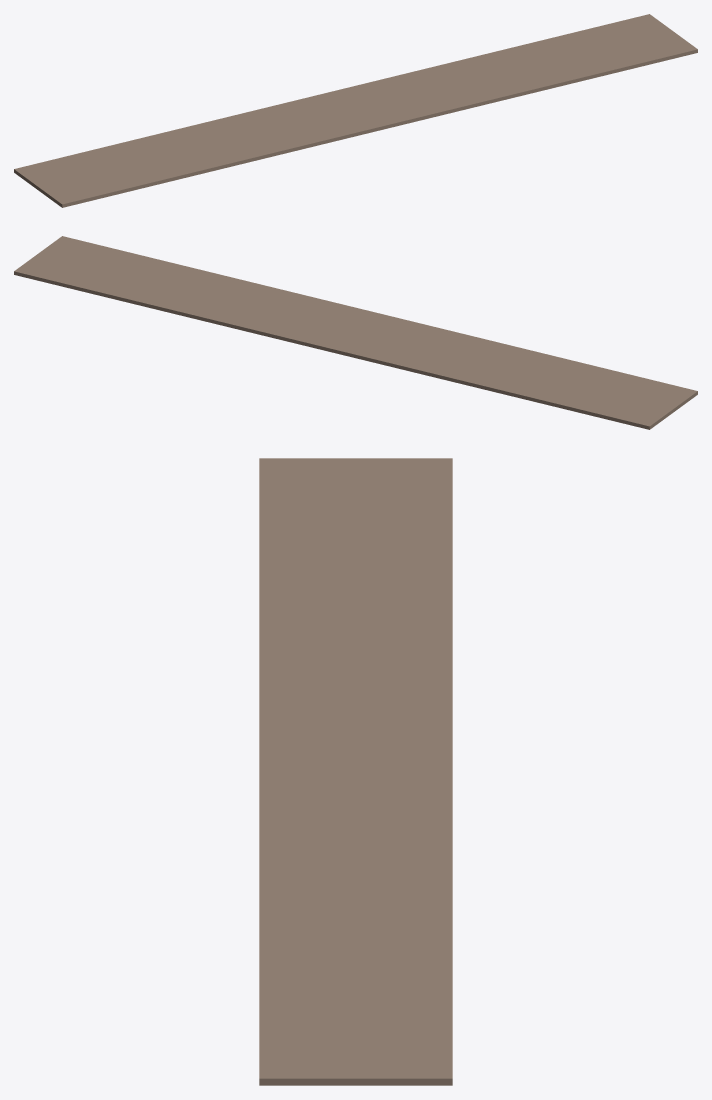
File: shinyfloor_long-convcol.gltf
3 views of the same model, one above another, from view 1: azimuth 30°, elevation 25°; view 2: azimuth 150°, elevation 25°; view 3: azimuth 270°, elevation 25° (orthographic). The views are drawn at different scales.
Parts seen in each view (by area): view 1: shinyfloor_long-convcol; view 2: shinyfloor_long-convcol; view 3: shinyfloor_long-convcol.
Boxes of the visible parts, x1,y1,x2,y2 form: shinyfloor_long-convcol: (14, 14, 697, 207); shinyfloor_long-convcol: (14, 236, 697, 429); shinyfloor_long-convcol: (259, 458, 452, 1085).
Size of the model in its own units: 38 by 0.2 by 5.
